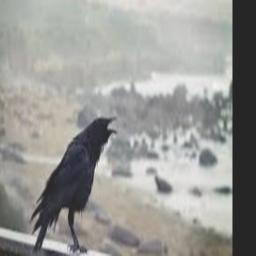Crow: (29, 114, 119, 256)
